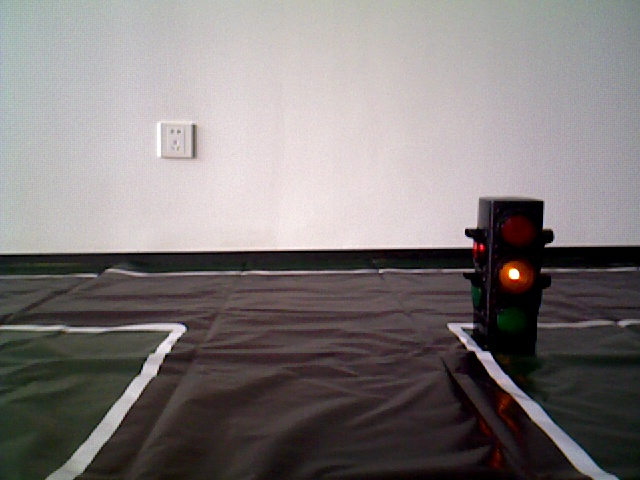yellow: (470, 201, 552, 350)
